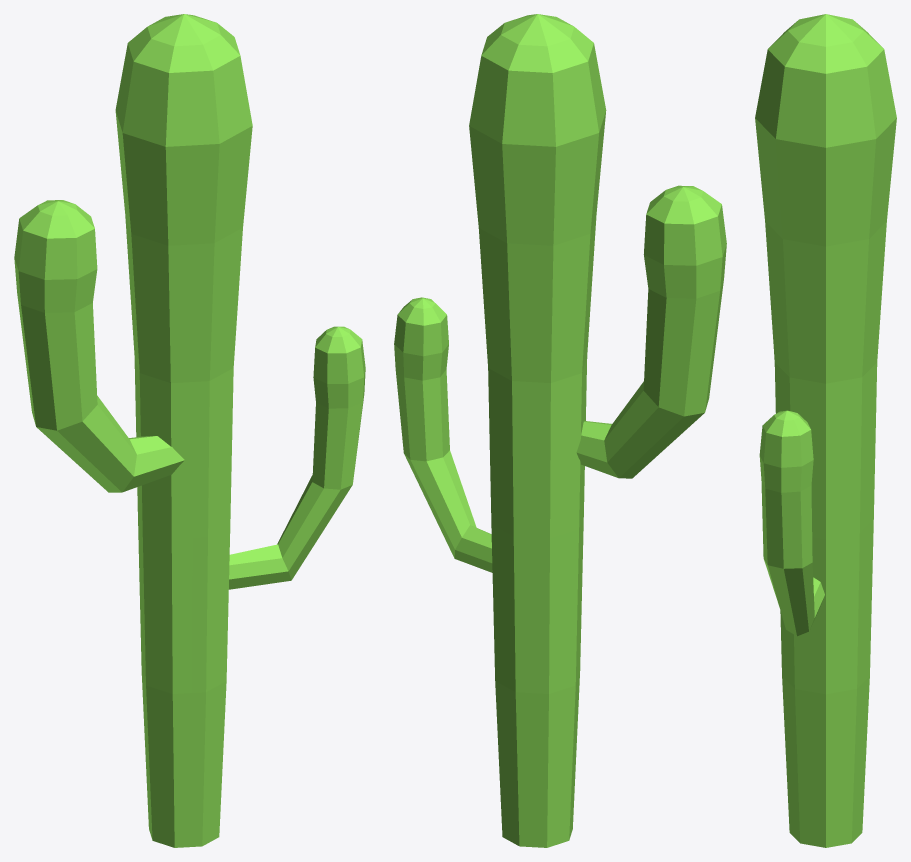
The model's file is cactus.fbx.
3 views of the same model, side by side, from view 1: azimuth 30°, elevation 25°; view 2: azimuth 150°, elevation 25°; view 3: azimuth 270°, elevation 25° (orthographic).
Parts seen in each view (by area): view 1: Cylinder.015; view 2: Cylinder.015; view 3: Cylinder.015.
Boxes of the visible parts, left/top/right/bottom form: Cylinder.015: left=14, top=14, right=365, bottom=847; Cylinder.015: left=394, top=14, right=726, bottom=847; Cylinder.015: left=755, top=14, right=896, bottom=847.
Bounding box in the file's own units: 111 × 261 × 41.
